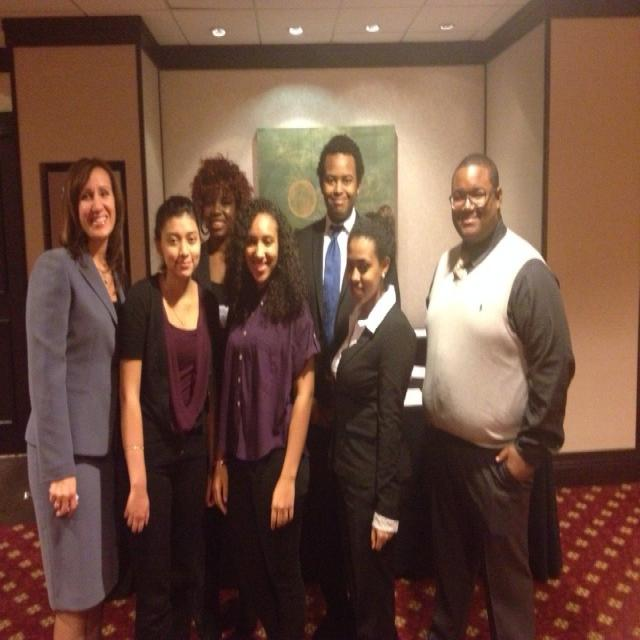body: (417, 151, 577, 638), (293, 134, 403, 638), (24, 153, 135, 639), (210, 194, 320, 638), (116, 189, 224, 639), (321, 209, 417, 640), (188, 152, 255, 380)
